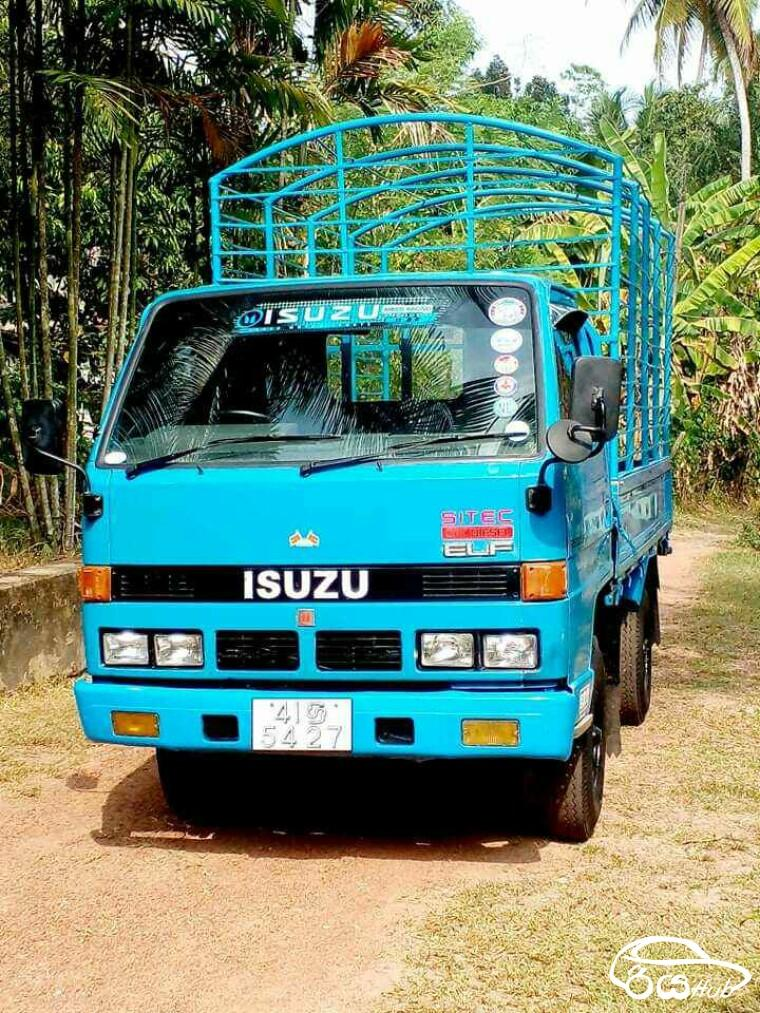truck: (18, 111, 673, 844)
